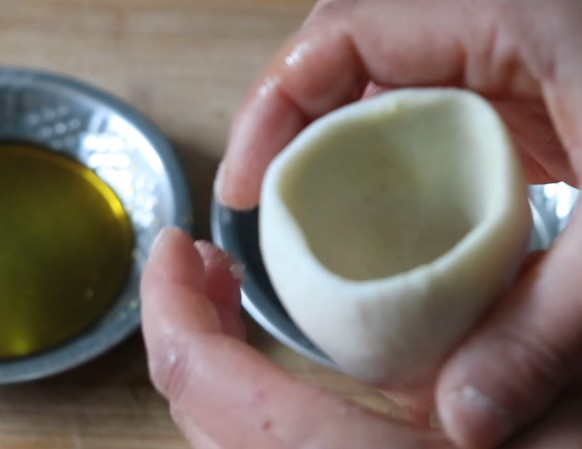yomari: (256, 83, 525, 324)
